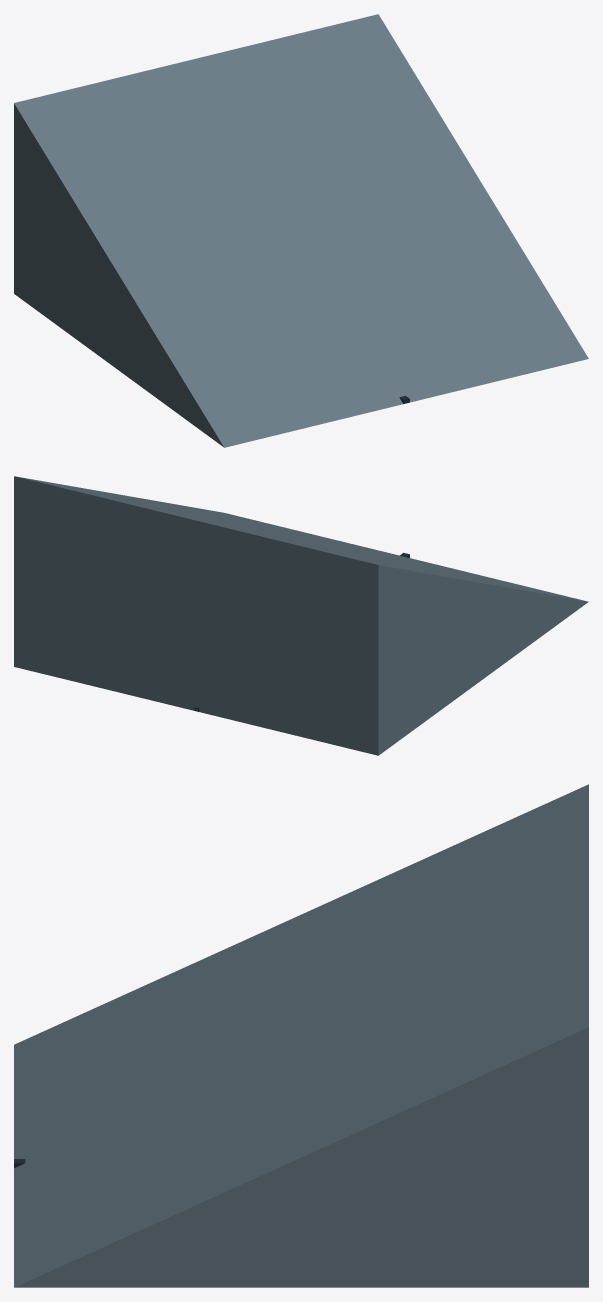
Rendered from terrain-metal-outer-corner.lod0.glb.
The picture shows the model from 3 angles, top to bottom: view 1: azimuth 30°, elevation 25°; view 2: azimuth 150°, elevation 25°; view 3: azimuth 270°, elevation 25°; orthographic projection. The views are drawn at different scales.
Parts seen in each view (by area): view 1: terrain-metal-outer-corner__body; view 2: terrain-metal-outer-corner__body; view 3: terrain-metal-outer-corner__body.
Part boxes in pixels (x1,y1,x2,y2): terrain-metal-outer-corner__body: [14, 14, 588, 447]; terrain-metal-outer-corner__body: [14, 476, 588, 755]; terrain-metal-outer-corner__body: [14, 784, 588, 1287].
Size of the model in its own units: 2 by 1 by 2.
